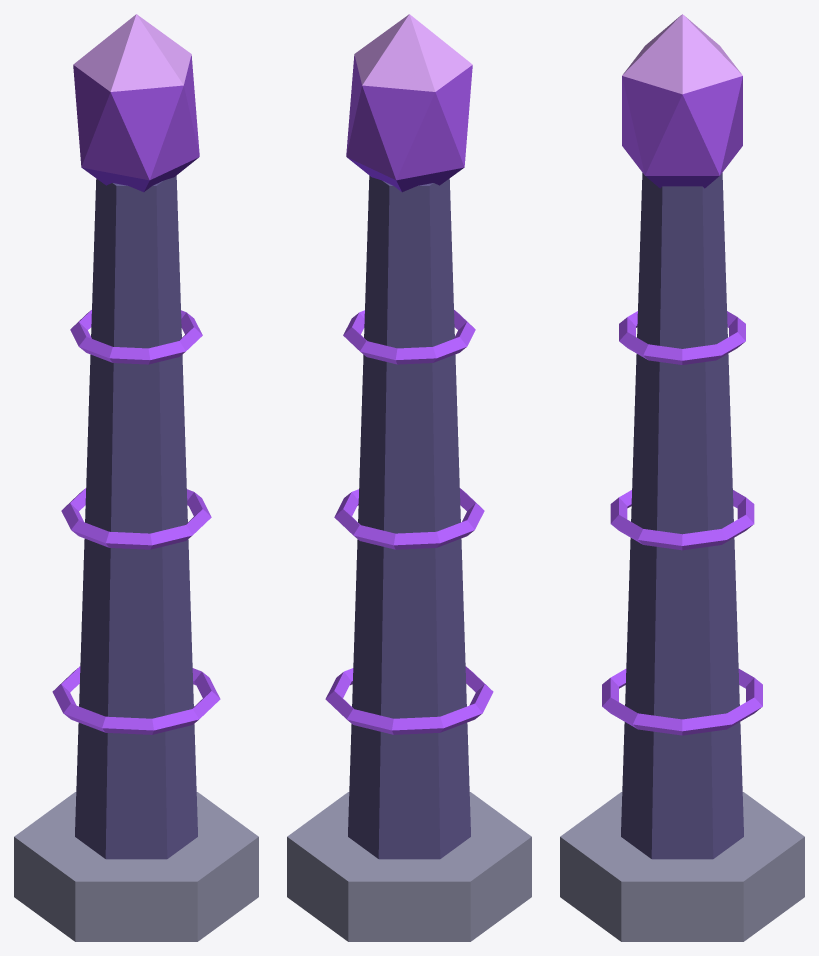
File: Energy_Pylon.obj
The picture shows the model from 3 angles, left to right: view 1: azimuth 30°, elevation 25°; view 2: azimuth 150°, elevation 25°; view 3: azimuth 270°, elevation 25°; orthographic projection.
Visible parts, largest first — view 1: Energy_Pylon; view 2: Energy_Pylon; view 3: Energy_Pylon.
Boxes of the visible parts, x1,y1,x2,y2 form: Energy_Pylon: (14, 14, 258, 941); Energy_Pylon: (287, 14, 531, 941); Energy_Pylon: (560, 14, 804, 941).
Size of the model in its own units: 0.9526 by 4.38 by 1.1.
1 material, 1 textured.
